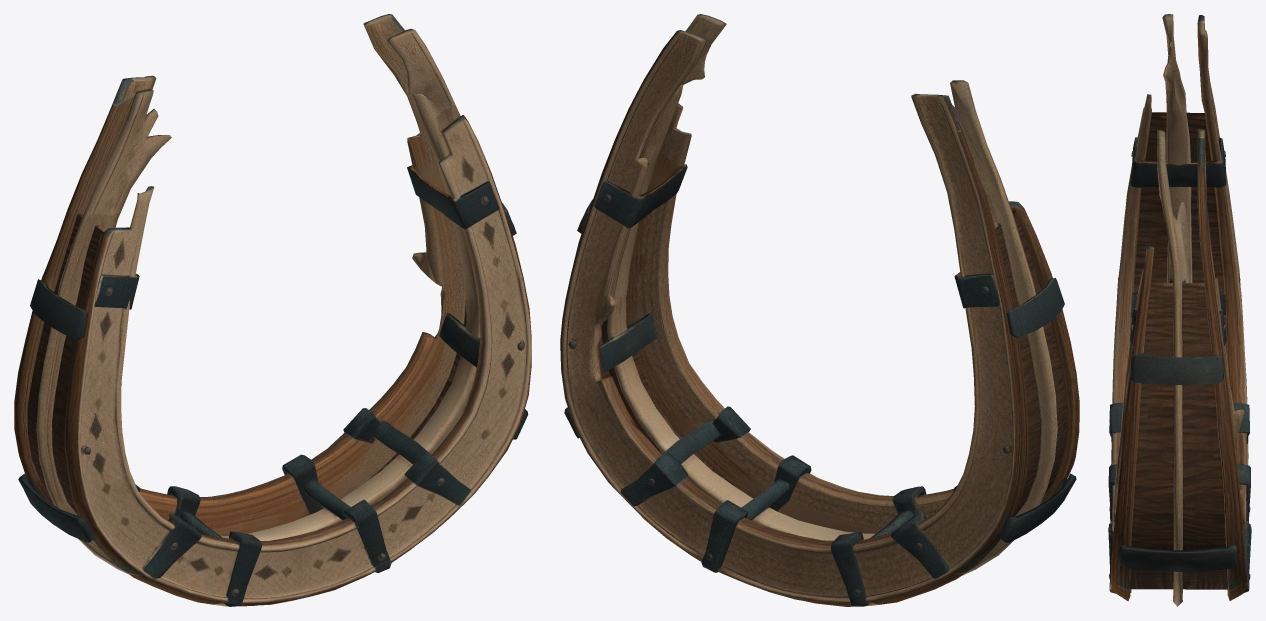
The model's file is ship-ribs.glb.
3 views of the same model, side by side, from view 1: azimuth 30°, elevation 25°; view 2: azimuth 150°, elevation 25°; view 3: azimuth 270°, elevation 25° (orthographic). The views are drawn at different scales.
Parts seen in each view (by area): view 1: ship-ribs_LOD0; view 2: ship-ribs_LOD0; view 3: ship-ribs_LOD0.
Part boxes in pixels (bbox=[...]): ship-ribs_LOD0: bbox=[14, 14, 531, 606]; ship-ribs_LOD0: bbox=[560, 14, 1079, 606]; ship-ribs_LOD0: bbox=[1108, 14, 1251, 606].
Size of what is drawn, in the model's own units: 0.9413 by 1 by 0.2617.
Materials: 1 (1 with a texture image).
